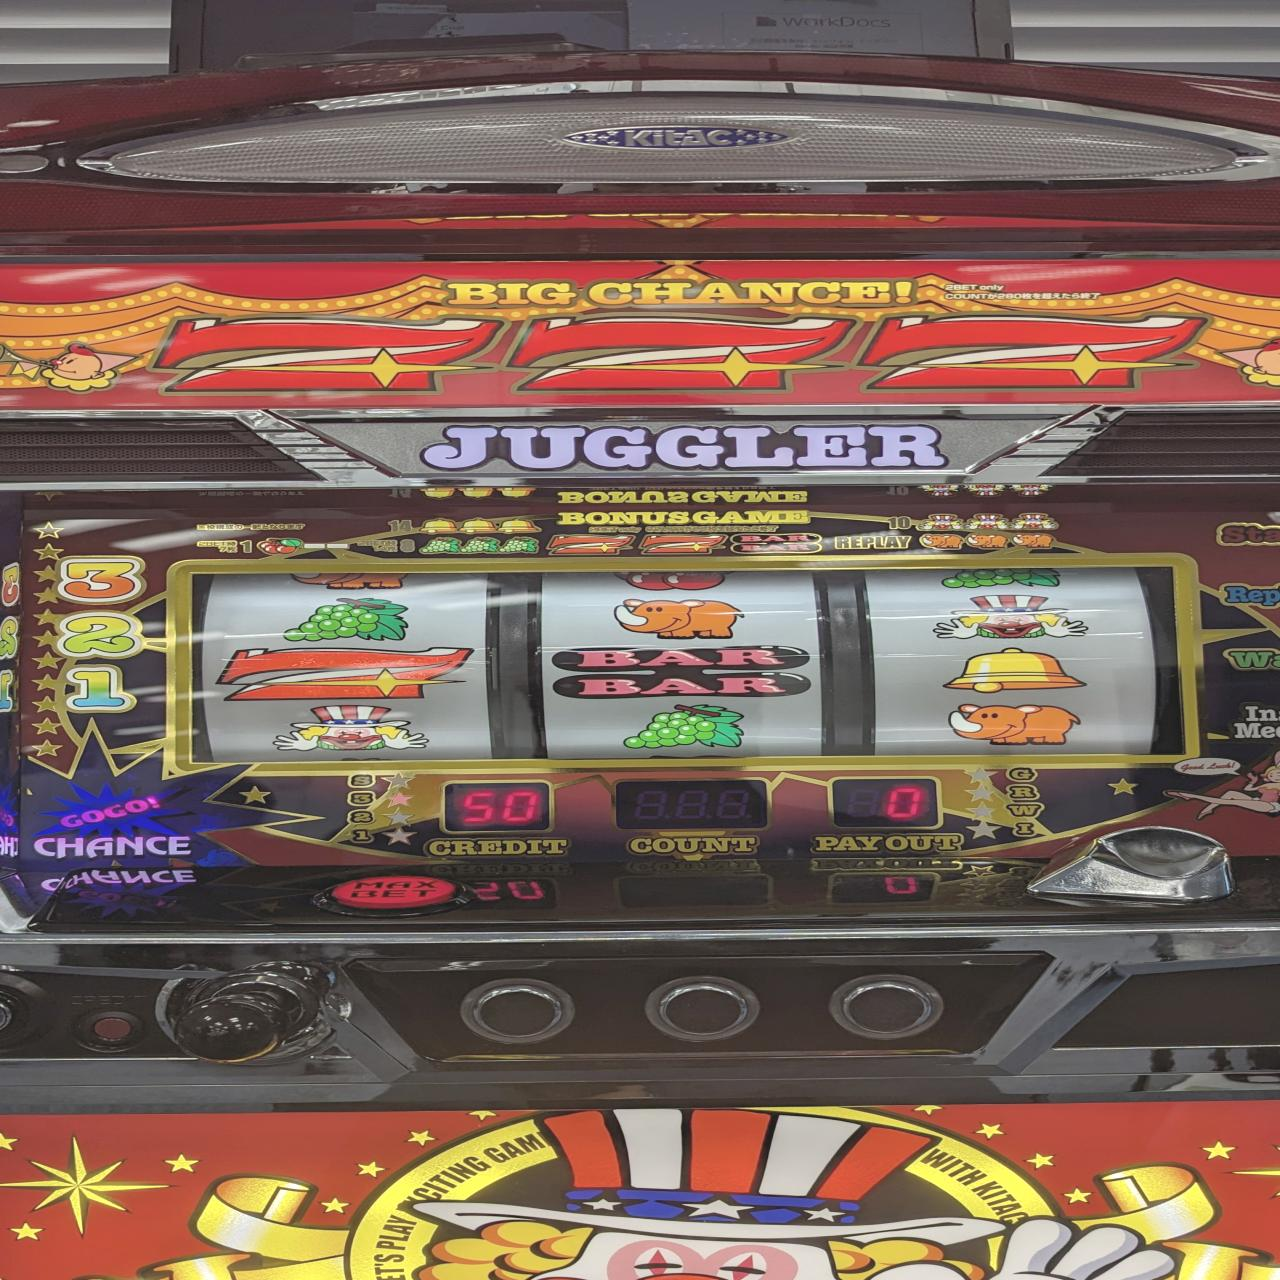7: (212, 646, 479, 701)
8: (604, 594, 749, 641), (941, 701, 1087, 748)
Display: (183, 552, 1191, 755)
bar: (547, 641, 813, 702)
bell: (939, 646, 1092, 694)
clown: (271, 701, 430, 753), (931, 594, 1089, 642)
grape: (620, 703, 755, 754), (279, 594, 414, 642)
